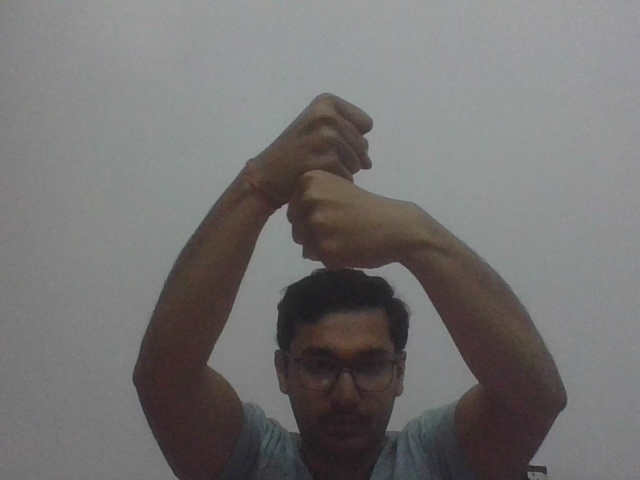G: (276, 90, 407, 272)
